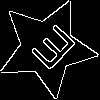E: (22, 23, 78, 79)
